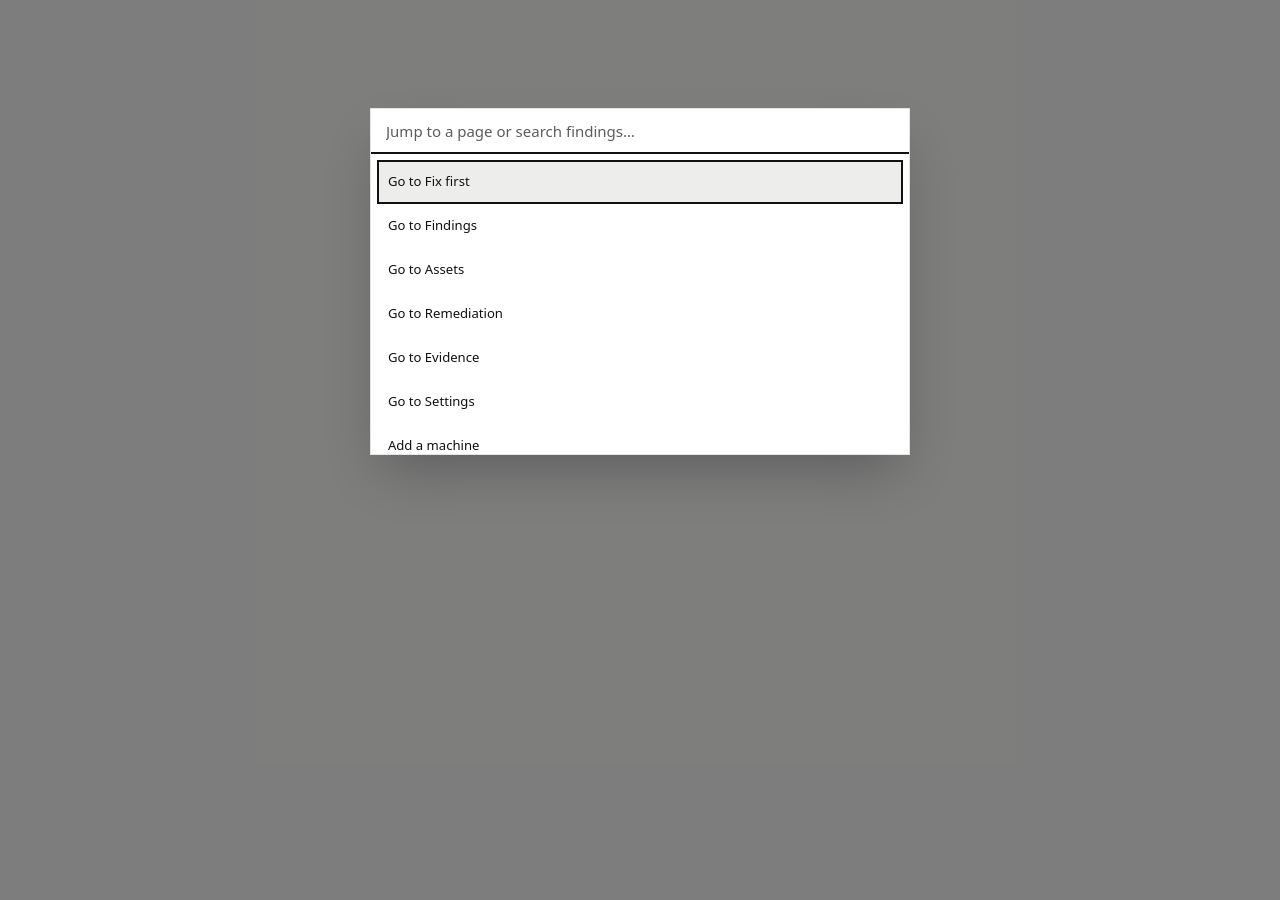
Scenario: the palette keeps the highlighted command when late results arrive, and finds hosts
This screenshot has width=1280, height=900.
Type "go" into the dropdown at (640, 132), box [371,109,909,154]
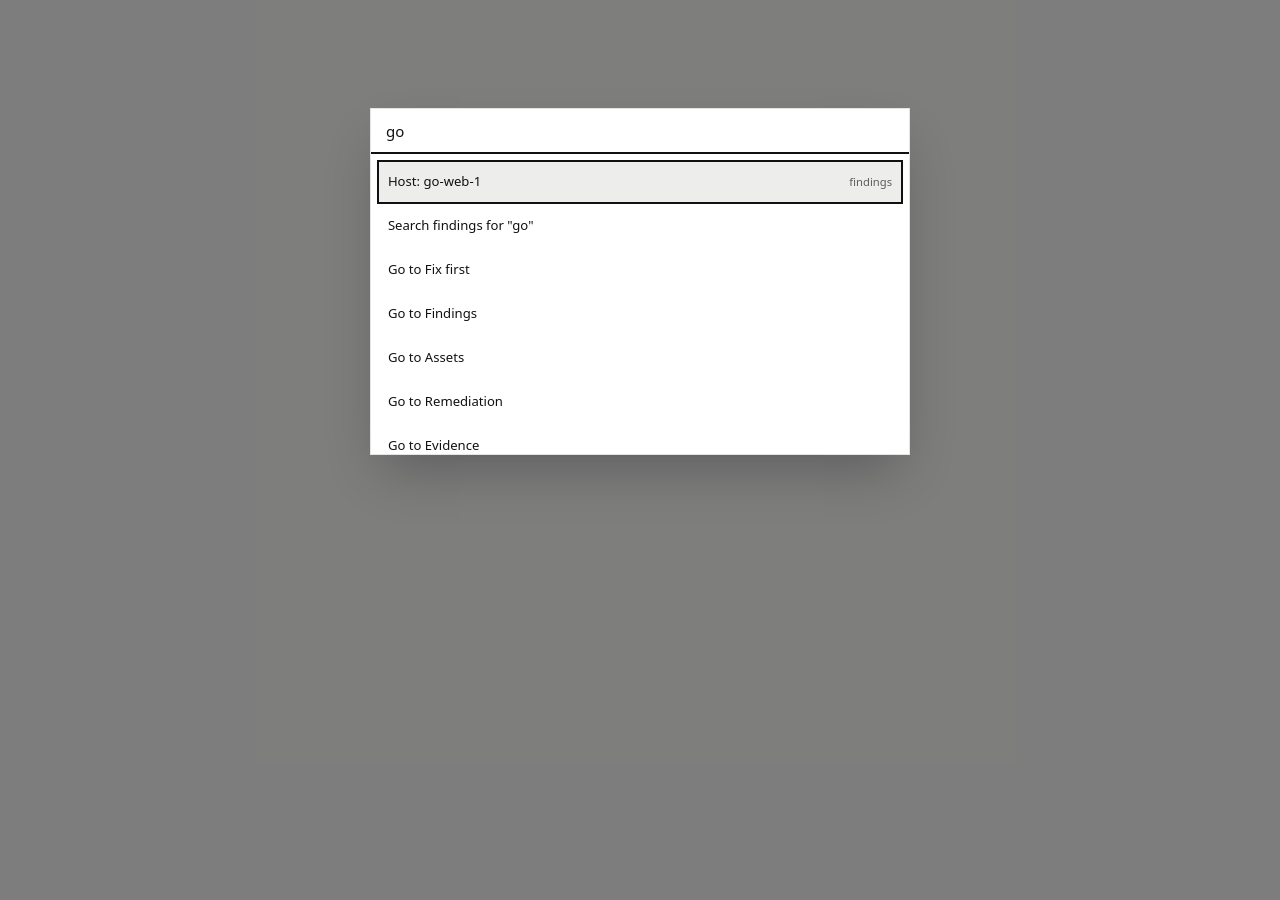
Expected: the option "Host: go-web-1 findings" is shown, [377,160,903,204]
Press Arrowdown Arrowdown
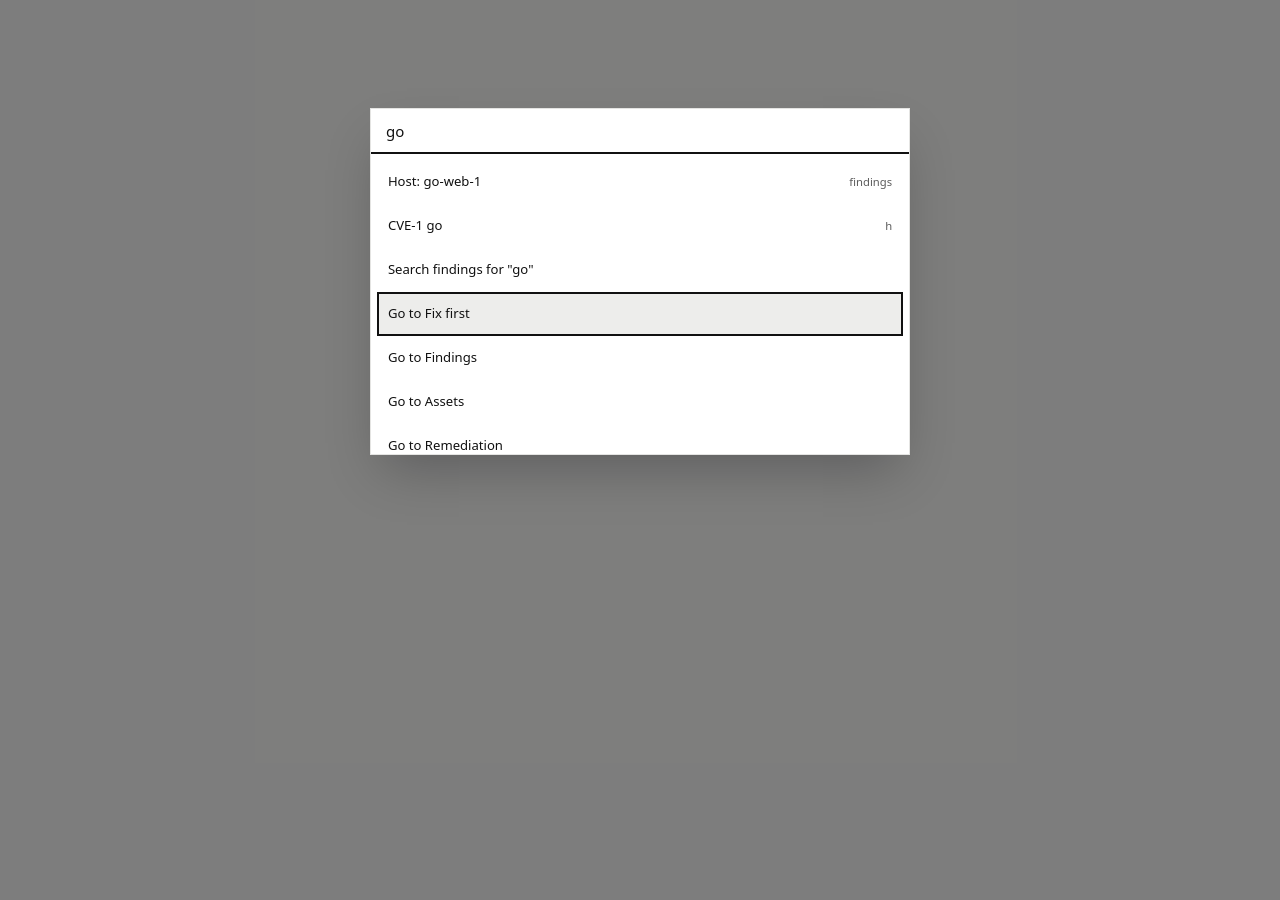
Expected: the option "CVE-1 go h" is shown, [388,216,892,234]
